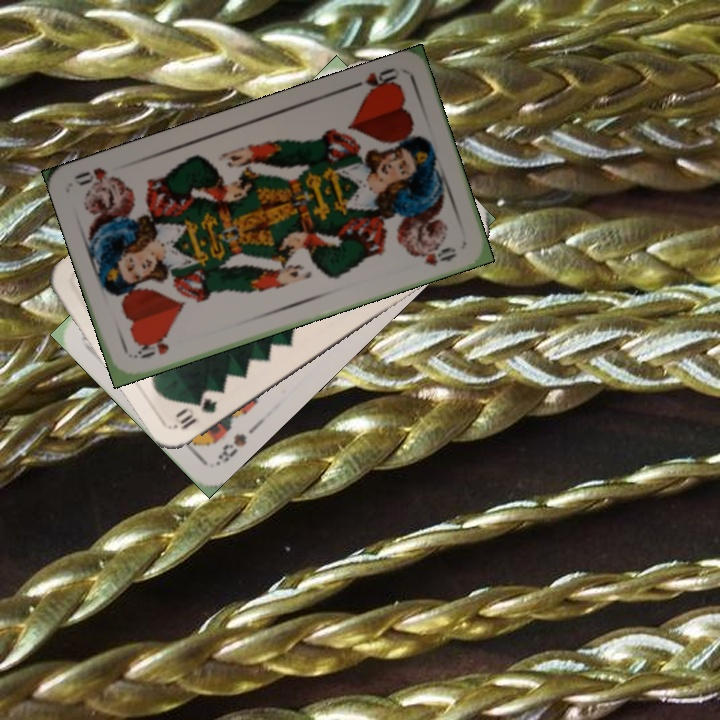G10: (172, 393, 220, 433)
HO: (345, 63, 403, 100), (130, 333, 172, 362)
S8: (211, 429, 249, 468)
